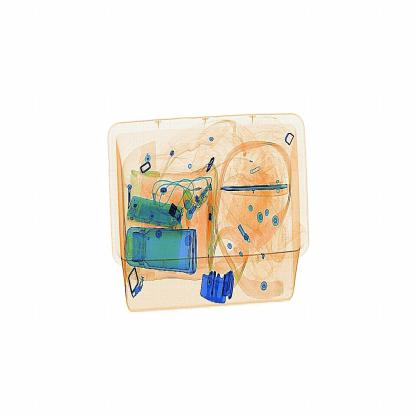pliers: (220, 182, 294, 198)
